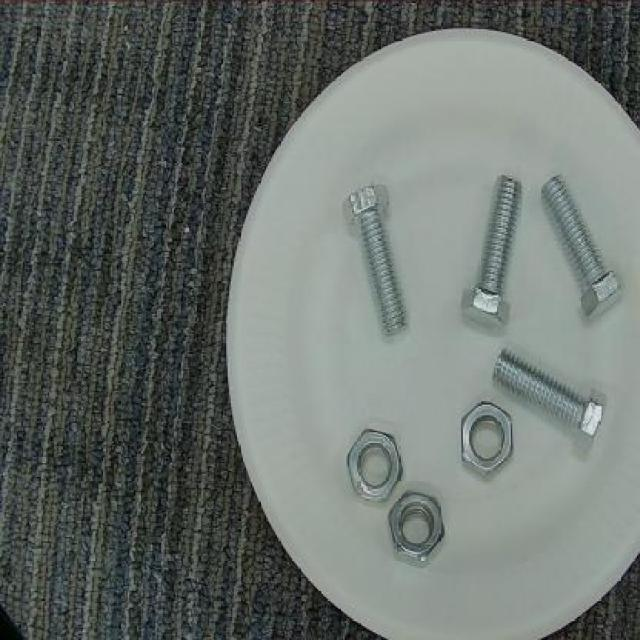Bolt: (539, 172, 633, 325), (492, 344, 610, 448), (456, 171, 530, 334), (339, 182, 411, 344)
Nut: (342, 424, 406, 504), (456, 398, 516, 478), (386, 496, 452, 566)
